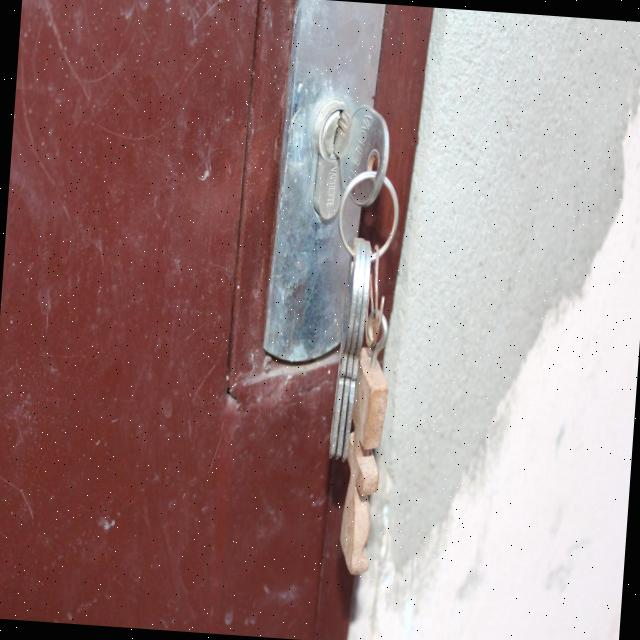Frontdoor keys: (312, 225, 406, 468)
